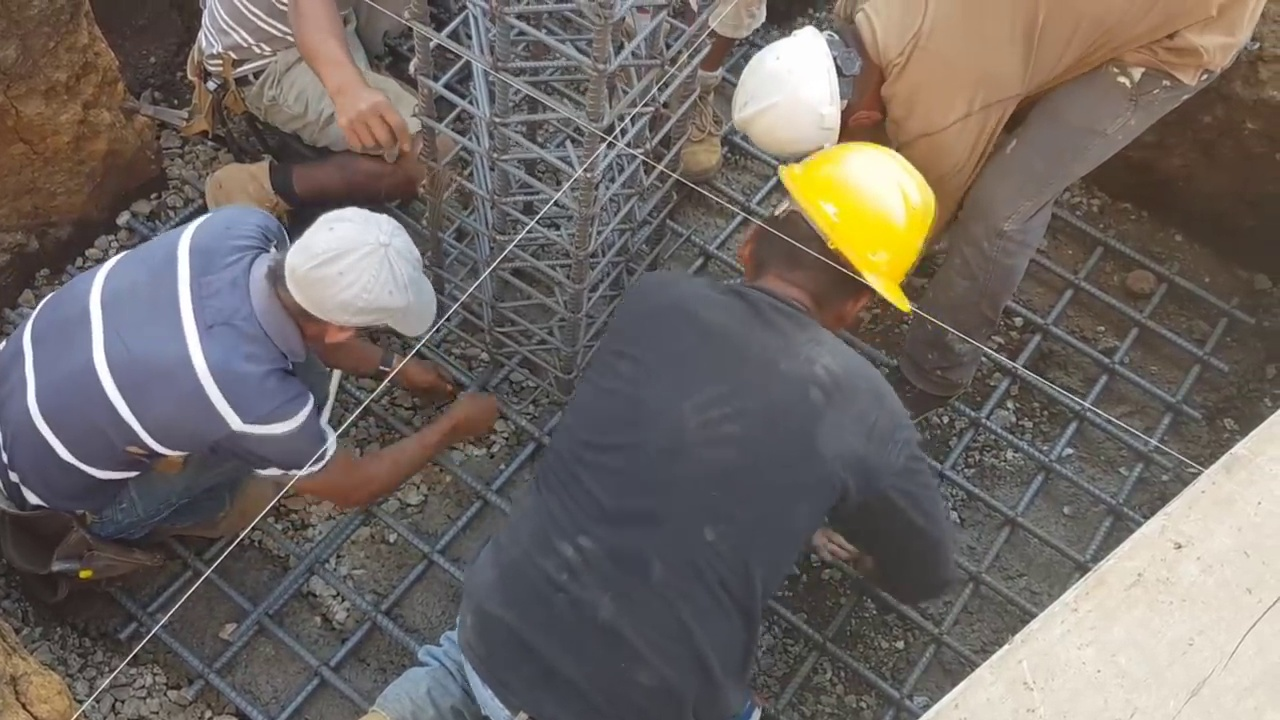helmet: (740, 20, 844, 164)
helmet-off: (268, 210, 434, 379)
helmet-on: (735, 142, 936, 323), (733, 24, 893, 164)
person: (367, 141, 987, 718), (0, 195, 488, 602), (732, 2, 1231, 397), (172, 0, 436, 221)
